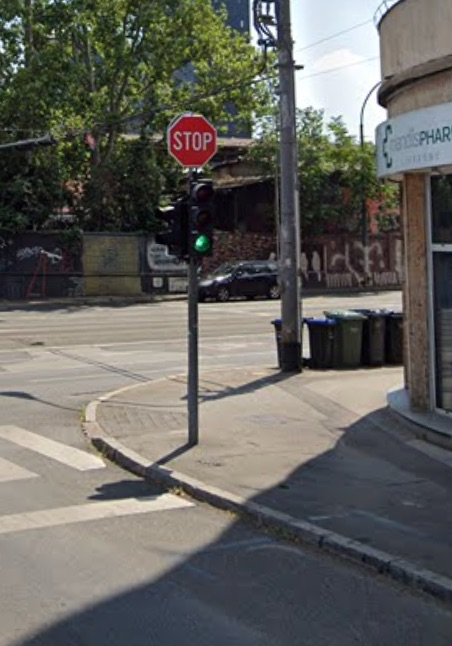Obavezno zaustavljanje: (167, 115, 218, 167)
